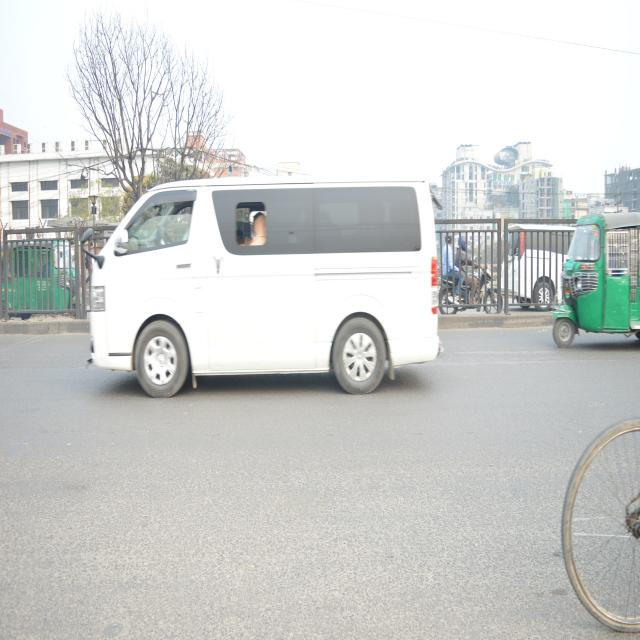car: (509, 214, 582, 311)
microbus: (73, 164, 451, 418)
motorbike: (438, 249, 503, 323)
